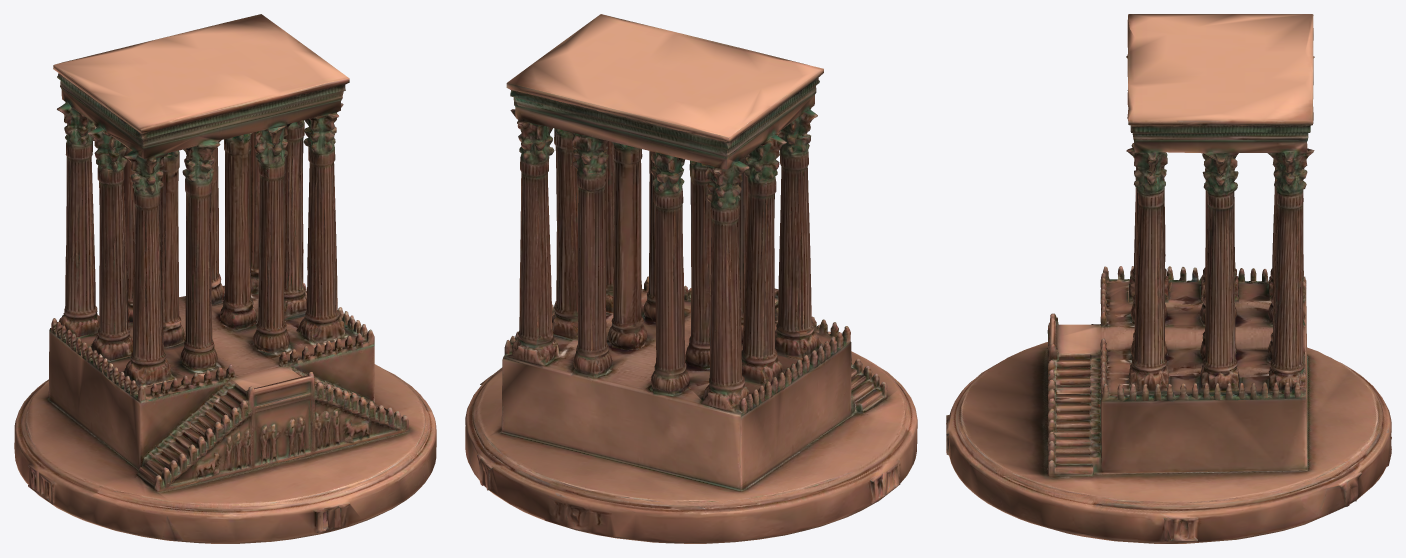
Rendered from persepolis.glb.
3 renders of one model, left to right at view 1: azimuth 30°, elevation 25°; view 2: azimuth 150°, elevation 25°; view 3: azimuth 270°, elevation 25°, orthographic. The views are drawn at different scales.
Visible parts, largest first — view 1: Mesh_0; view 2: Mesh_0; view 3: Mesh_0.
Part boxes in pixels (<box>): Mesh_0: <box>14,14,436,543</box>; Mesh_0: <box>465,14,917,543</box>; Mesh_0: <box>946,14,1391,543</box>.
Bounding box in the file's own units: 1.91 × 1.85 × 1.91.
Materials: 1 (1 with a texture image).
